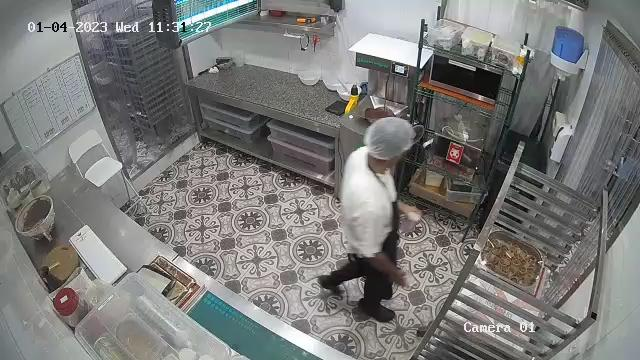apron: (370, 169, 406, 296)
